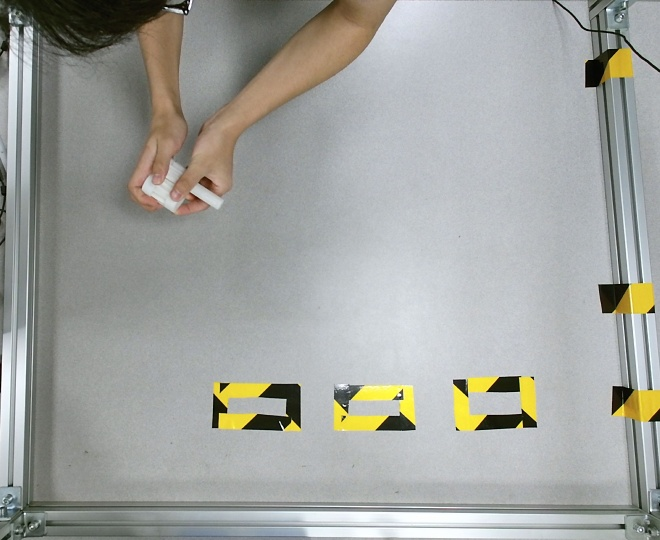stage_4: (140, 159, 223, 211)
